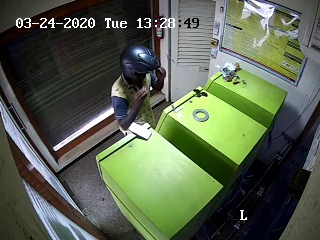helmet: (117, 44, 168, 86)
